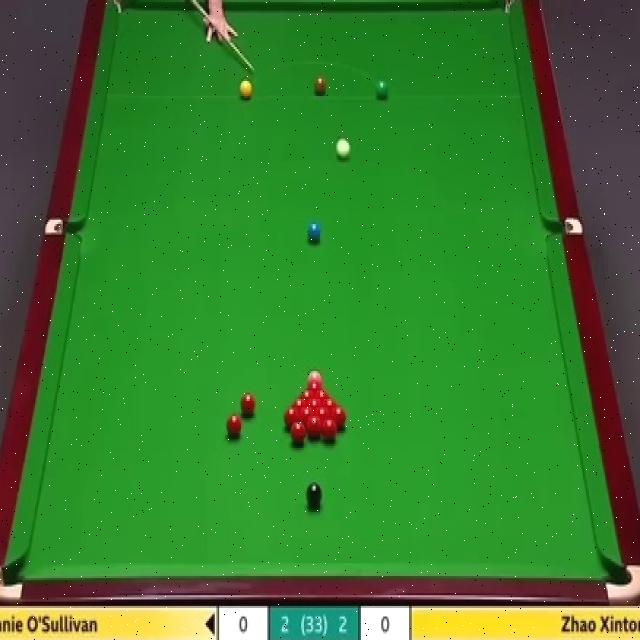black-ball: (306, 480, 322, 509)
blue-ball: (309, 222, 322, 246)
brown-ball: (314, 77, 326, 96)
green-ball: (376, 80, 388, 100)
pink-ball: (306, 367, 323, 384)
red-ball: (239, 391, 259, 417), (305, 415, 322, 440), (290, 422, 306, 447), (330, 406, 348, 428), (284, 406, 300, 428), (323, 417, 339, 439), (226, 413, 241, 436), (299, 406, 315, 423), (316, 408, 330, 426), (313, 390, 332, 401), (306, 399, 323, 410), (322, 398, 339, 409), (305, 380, 323, 390), (297, 390, 313, 400), (292, 400, 306, 410)
white-ball: (335, 136, 351, 161)
yellow-ball: (238, 78, 254, 100)
